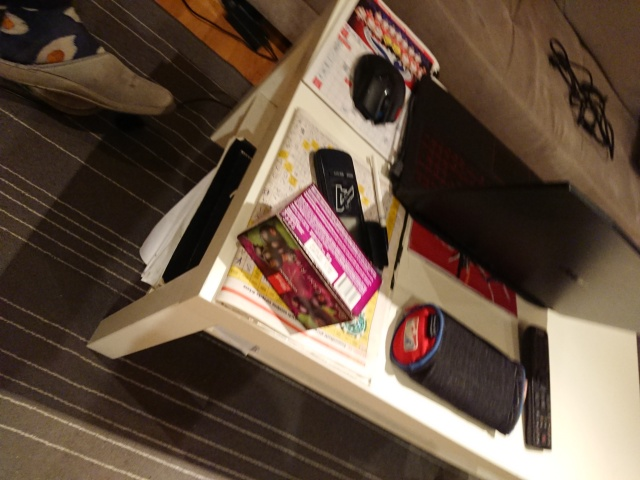Franck Black Currant Tea 60g: (235, 181, 385, 331)
